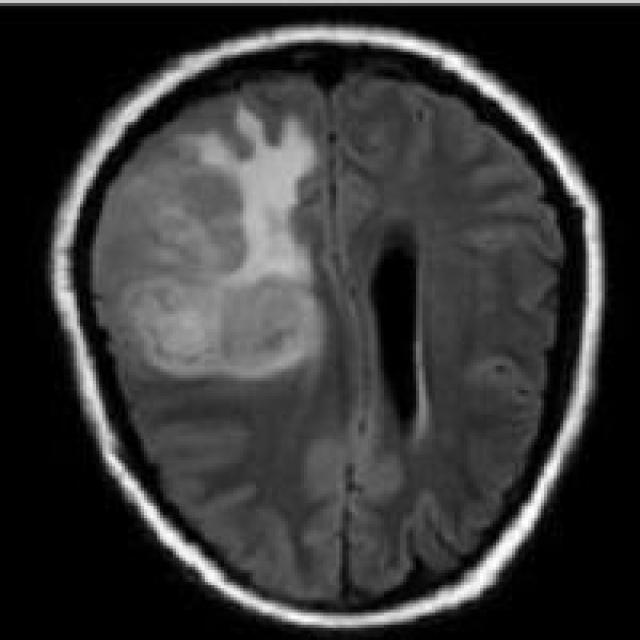Tumor-Cell: (121, 148, 332, 382)
